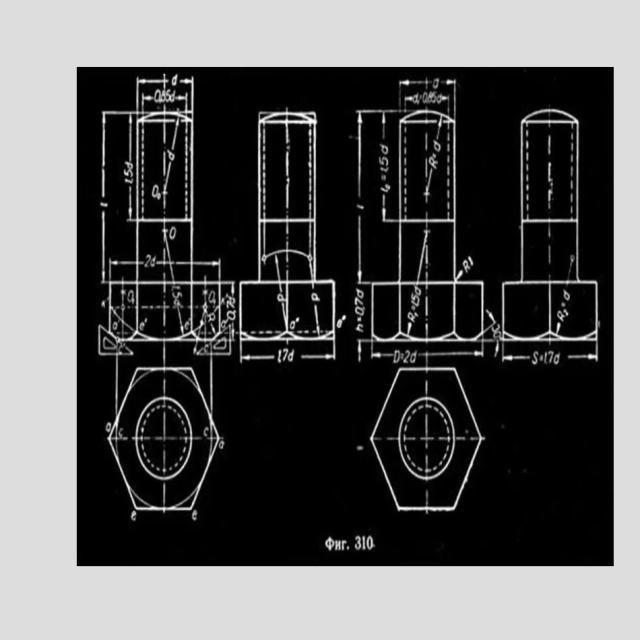marking_line: (98, 114, 107, 283), (112, 258, 220, 272), (355, 113, 365, 196), (427, 349, 485, 359), (356, 217, 364, 281), (171, 117, 181, 154), (503, 351, 531, 364), (300, 351, 332, 362), (243, 352, 274, 363), (138, 77, 170, 87), (128, 114, 134, 159), (568, 353, 598, 362), (374, 349, 396, 360), (179, 73, 194, 88), (128, 190, 135, 222), (400, 78, 426, 86), (379, 194, 388, 217), (440, 77, 457, 88), (380, 112, 387, 138), (403, 92, 414, 106), (440, 94, 452, 104)
numeric: (122, 158, 135, 193), (275, 346, 295, 367), (154, 89, 177, 104), (421, 89, 438, 106), (402, 345, 414, 367), (542, 349, 557, 365), (378, 155, 390, 173)
